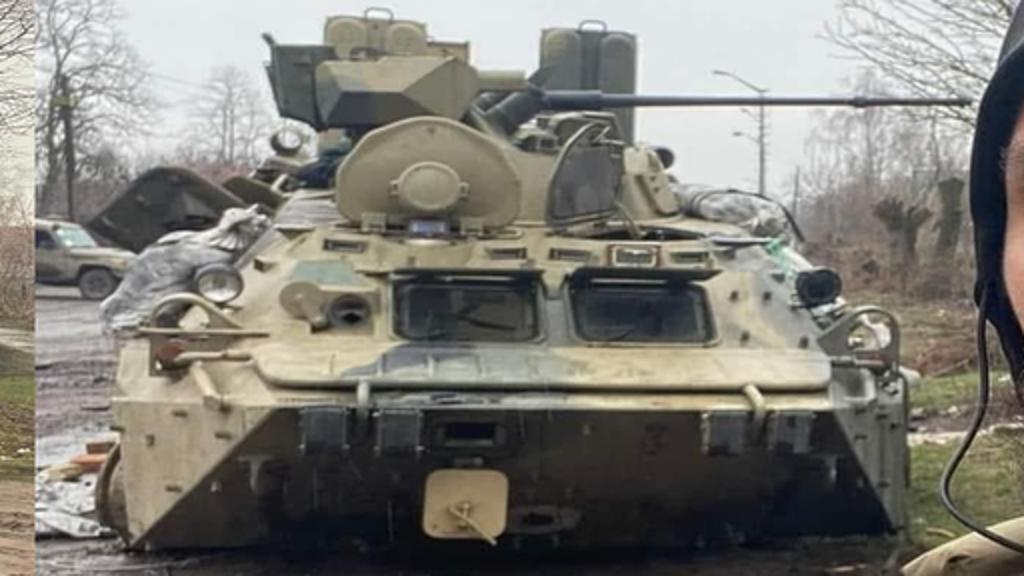APC-IFV: (100, 8, 908, 560)
